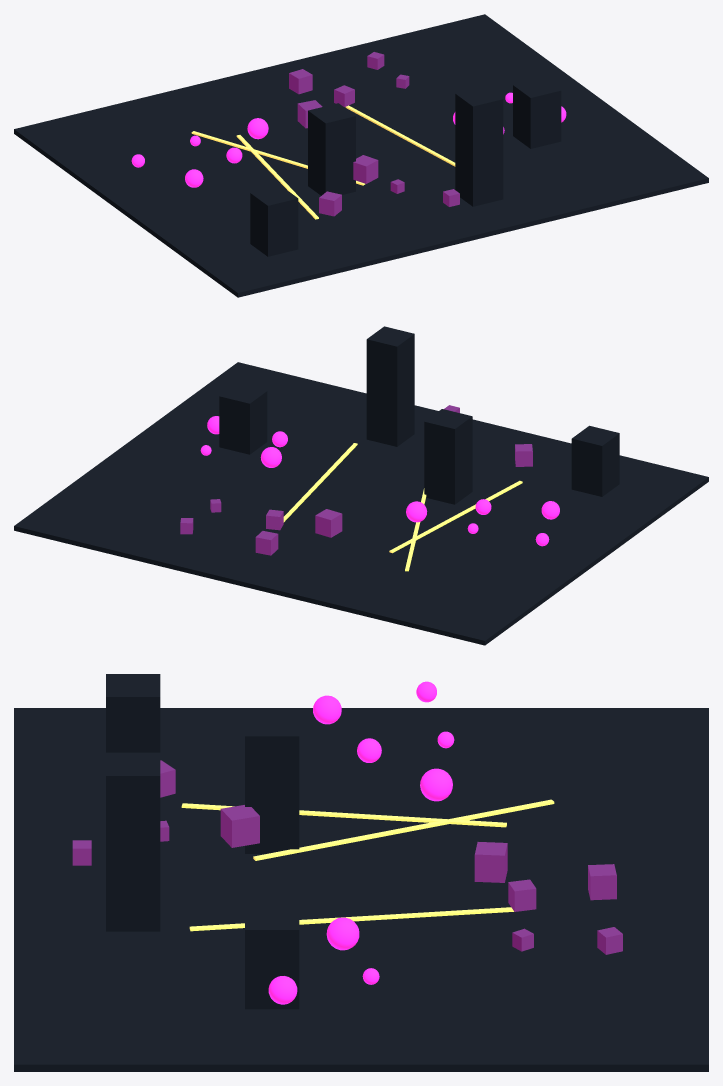
Rendered from west-depths.glb.
3 renders of one model, top to bottom at view 1: azimuth 30°, elevation 25°; view 2: azimuth 150°, elevation 25°; view 3: azimuth 270°, elevation 25°, orthographic. The views are drawn at different scales.
Visible parts, largest first — view 1: GD_west-depths_walkable_platform, GD_west-depths_distant_tower_2, GD_west-depths_distant_tower_1, GD_west-depths_distant_tower_0, GD_west-depths_distant_tower_3, GD_west-depths_cluster_11, GD_west-depths_pcg_route_6, GD_west-depths_cluster_5, GD_west-depths_pcg_route_12, GD_west-depths_cluster_15, GD_west-depths_pcg_route_0; view 2: GD_west-depths_walkable_platform, GD_west-depths_distant_tower_2, GD_west-depths_distant_tower_1, GD_west-depths_distant_tower_3, GD_west-depths_distant_tower_0, GD_west-depths_cluster_1, GD_west-depths_pcg_route_0, GD_west-depths_cluster_5; view 3: GD_west-depths_walkable_platform, GD_west-depths_distant_tower_2, GD_west-depths_distant_tower_1, GD_west-depths_distant_tower_3, GD_west-depths_distant_tower_0, GD_west-depths_pcg_route_12, GD_west-depths_cluster_11, GD_west-depths_pcg_route_6, GD_west-depths_cluster_1, GD_west-depths_pcg_route_0, GD_west-depths_cluster_5, GD_west-depths_cluster_6 (+5 smaller).
Boxes of the visible parts, x1,y1,x2,y2 form: GD_west-depths_walkable_platform: (14, 14, 708, 297); GD_west-depths_distant_tower_2: (455, 86, 503, 206); GD_west-depths_distant_tower_1: (308, 103, 355, 195); GD_west-depths_distant_tower_0: (250, 185, 298, 256); GD_west-depths_distant_tower_3: (513, 78, 561, 148); GD_west-depths_cluster_11: (353, 155, 378, 183); GD_west-depths_pcg_route_6: (345, 105, 455, 166); GD_west-depths_cluster_5: (289, 69, 312, 94); GD_west-depths_pcg_route_12: (191, 131, 365, 185); GD_west-depths_cluster_15: (319, 191, 341, 216); GD_west-depths_pcg_route_0: (236, 135, 318, 219); GD_west-depths_walkable_platform: (14, 362, 708, 645); GD_west-depths_distant_tower_2: (366, 326, 414, 446); GD_west-depths_distant_tower_1: (424, 409, 472, 504); GD_west-depths_distant_tower_3: (219, 383, 267, 454); GD_west-depths_distant_tower_0: (571, 425, 619, 496); GD_west-depths_cluster_1: (315, 509, 342, 537); GD_west-depths_pcg_route_0: (389, 480, 522, 553); GD_west-depths_cluster_5: (255, 531, 278, 555); GD_west-depths_walkable_platform: (14, 708, 708, 1071); GD_west-depths_distant_tower_2: (106, 752, 160, 931); GD_west-depths_distant_tower_1: (245, 713, 299, 853); GD_west-depths_distant_tower_3: (245, 907, 299, 1009); GD_west-depths_distant_tower_0: (106, 674, 160, 752); GD_west-depths_pcg_route_12: (253, 799, 554, 860); GD_west-depths_cluster_11: (220, 805, 259, 847); GD_west-depths_pcg_route_6: (189, 907, 513, 931); GD_west-depths_cluster_1: (474, 842, 507, 882); GD_west-depths_pcg_route_0: (181, 803, 506, 827); GD_west-depths_cluster_5: (588, 864, 616, 900); GD_west-depths_cluster_6: (326, 917, 359, 950).
Size of the model in its own units: 17 by 3.62 by 14.
